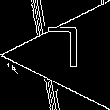L_S: (56, 30, 91, 80)
